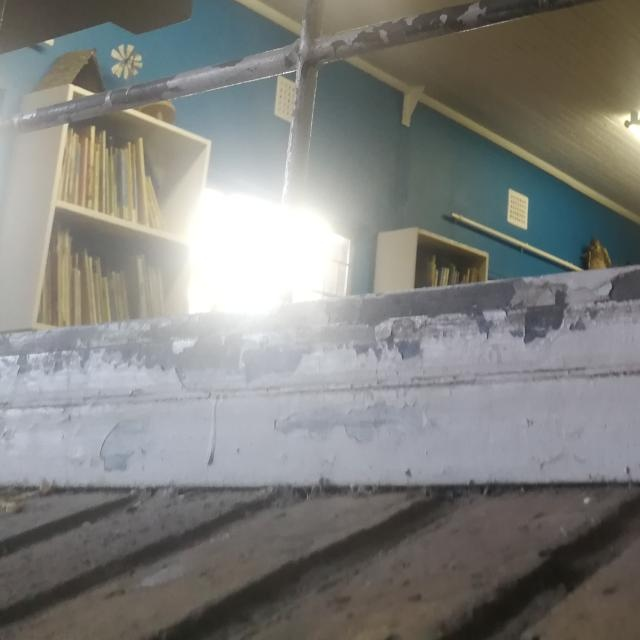fluorescent tube: (613, 89, 640, 218)
